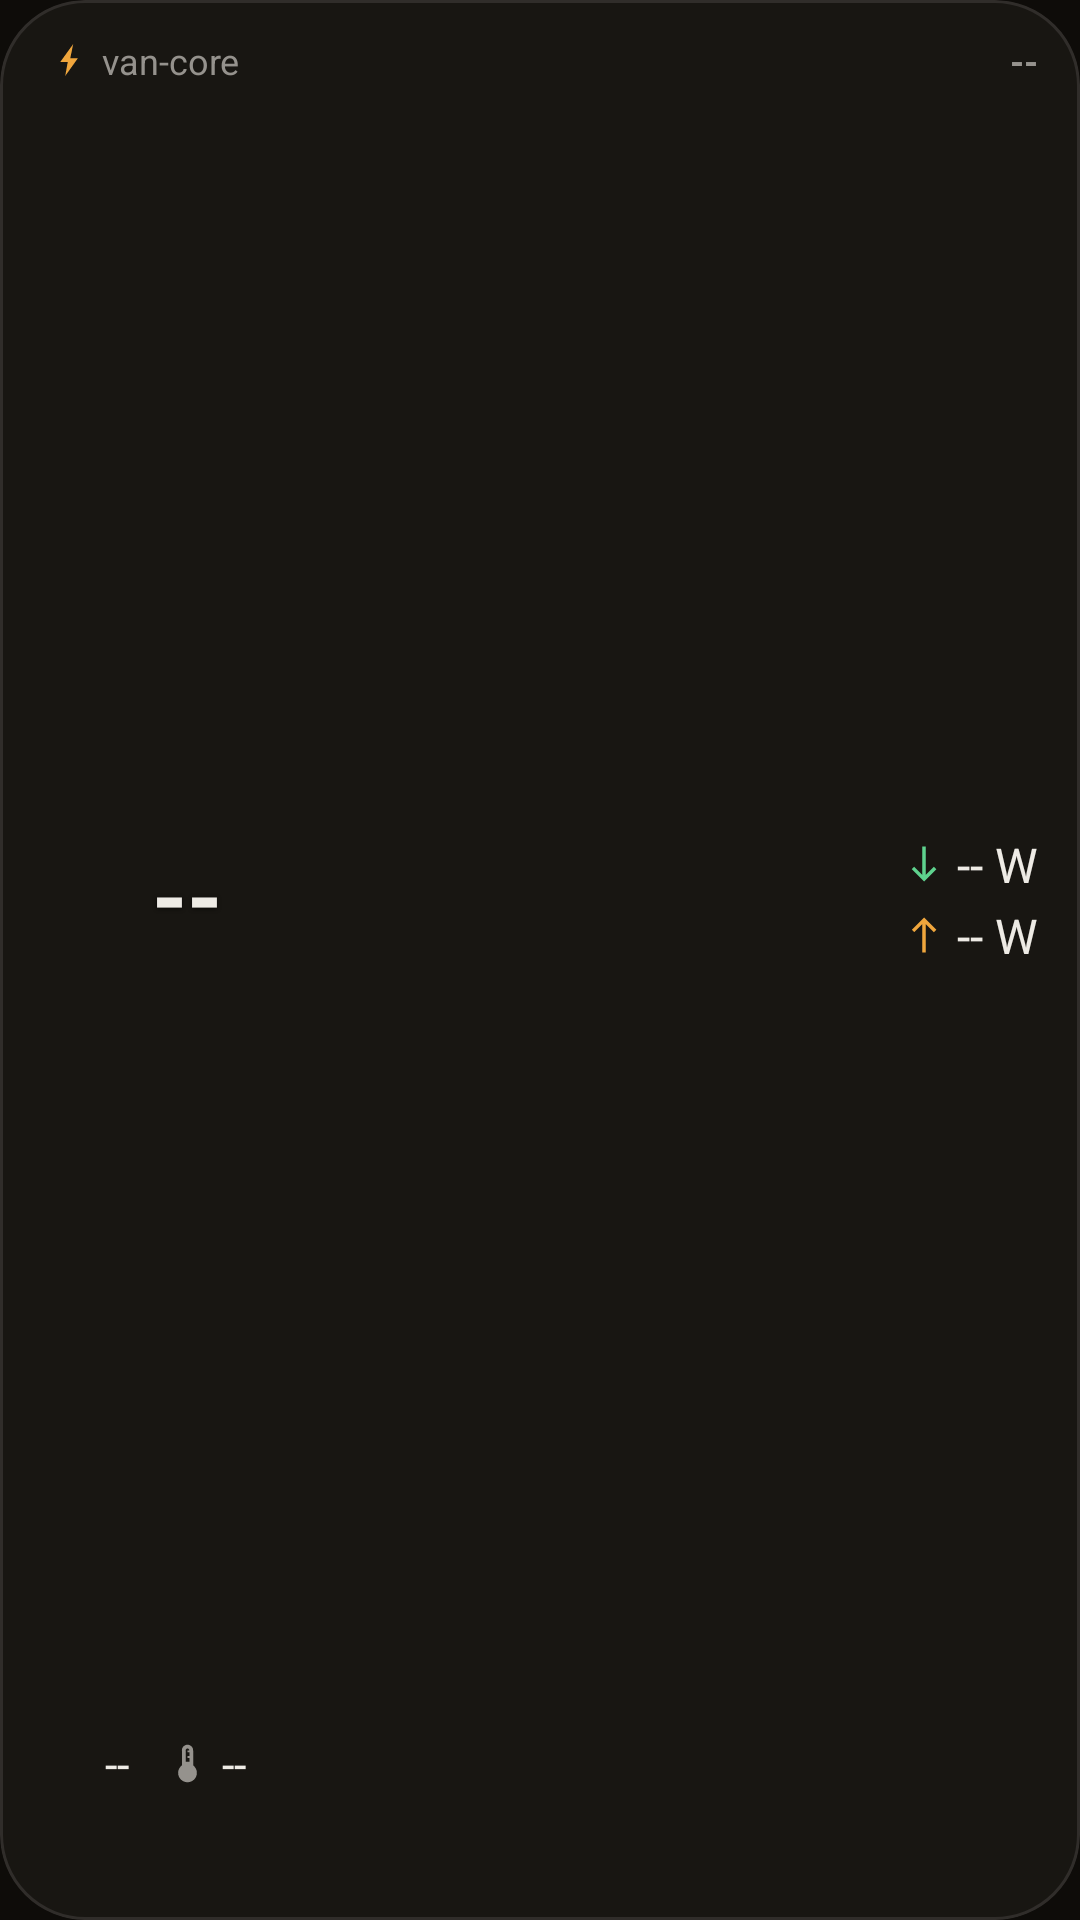

Named icons in this screenshot (1080 x 1920) and their bounding boxes, (x1, y1, x2, y2):
bolt: (60, 44, 78, 76)
Input: (912, 846, 937, 882)
Output: (912, 917, 937, 953)
